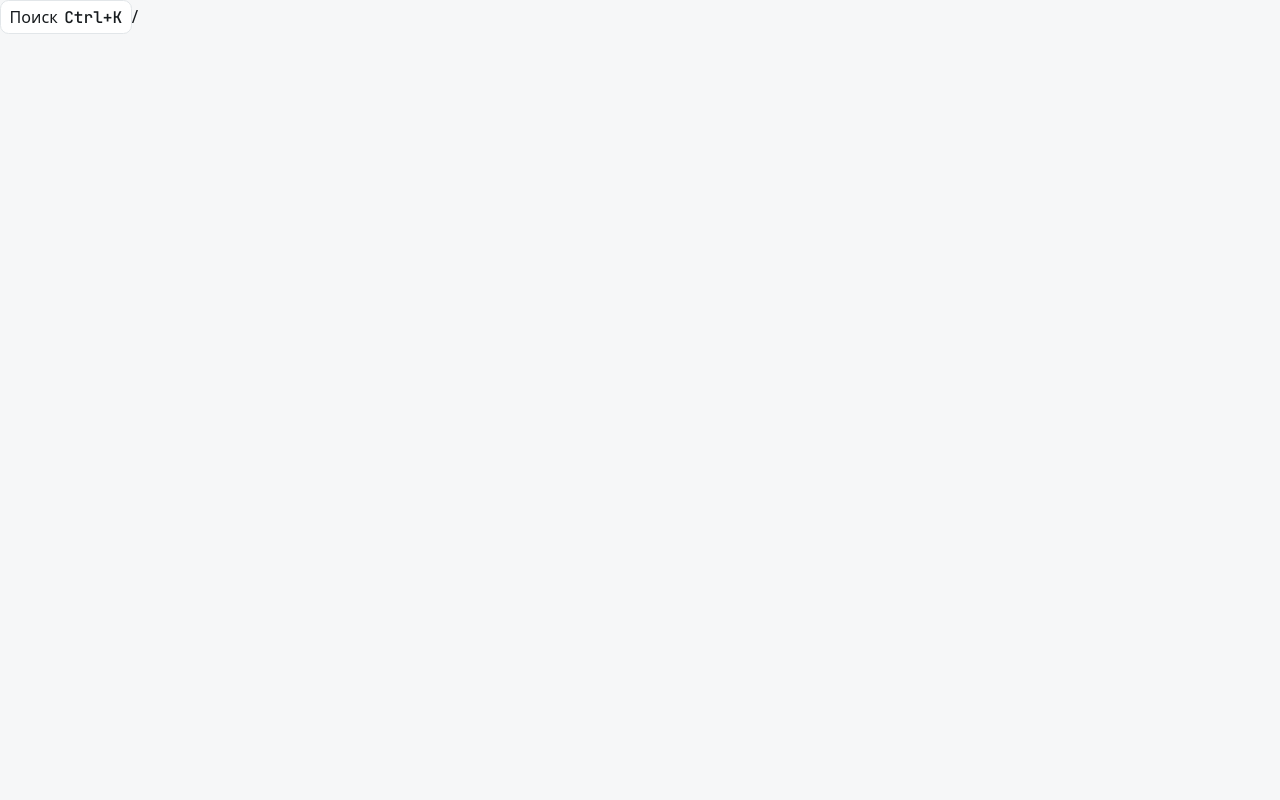
Scenario: opens with Ctrl+K, selects ambiguous candidate using keyboard and navigates
Press k
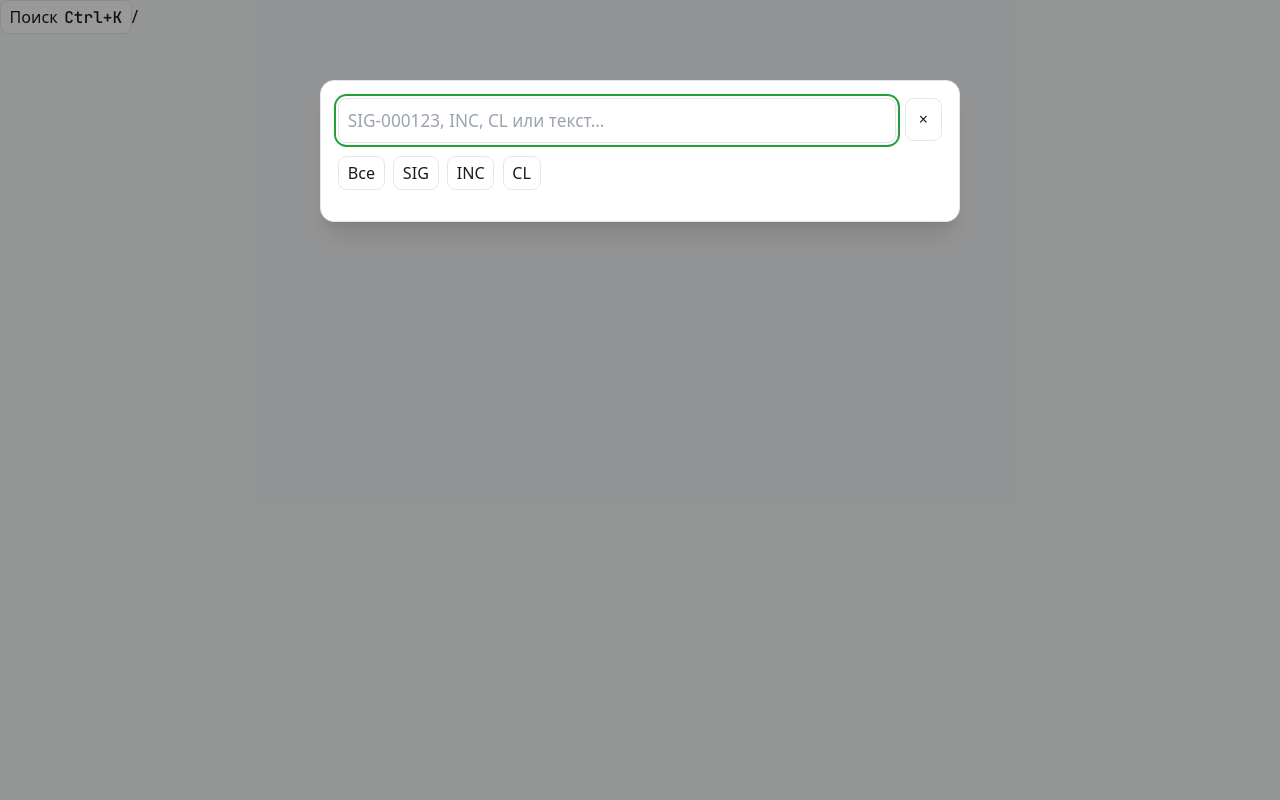
In the dropdown: (617, 121) [338,98,896,143], type "1"
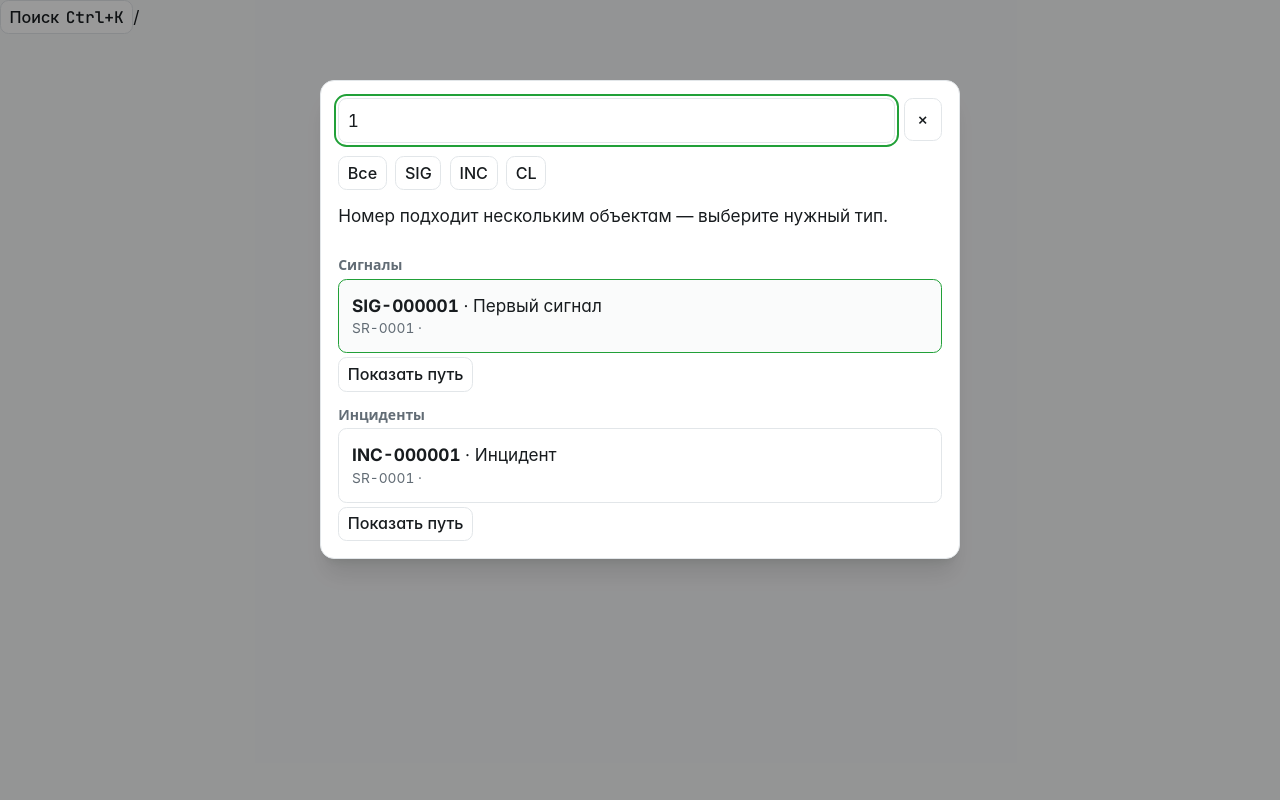
Now the text "Номер подходит нескольким объектам — выберите нужный тип." is shown, box [338,203,942,229]
Press ArrowDown in the dropdown, box [338,98,895,143]
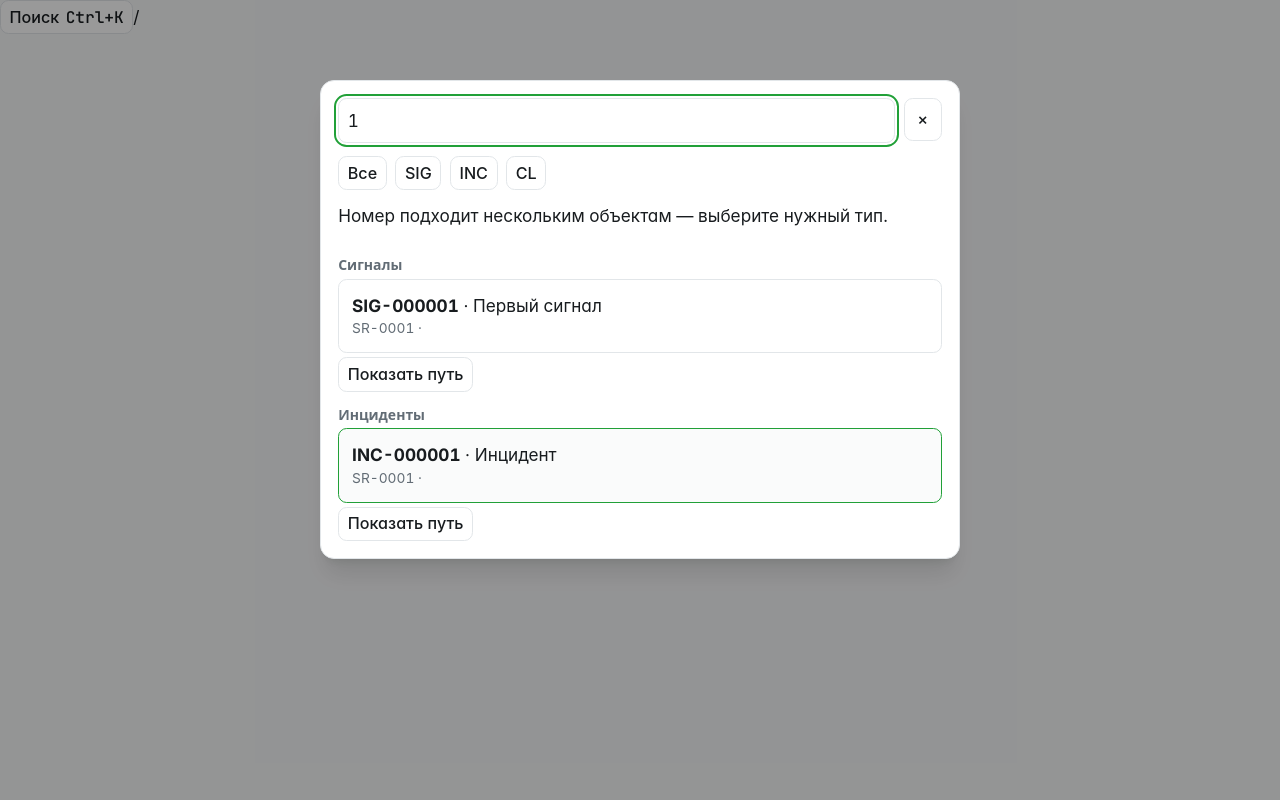
Press Enter in the dropdown, box [338,98,895,143]
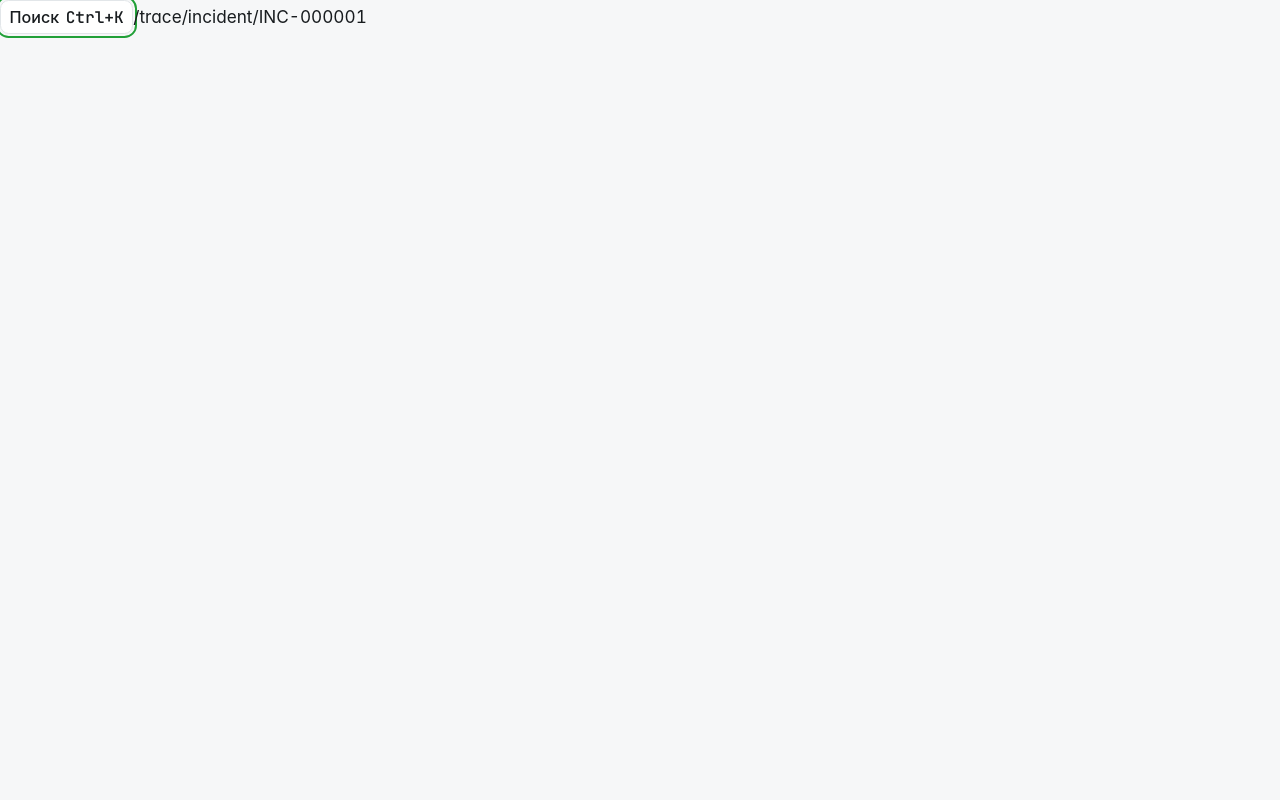
Now the text "/trace/incident/INC-000001" is shown, box [133,6,367,26]
Now the dialog is gone
